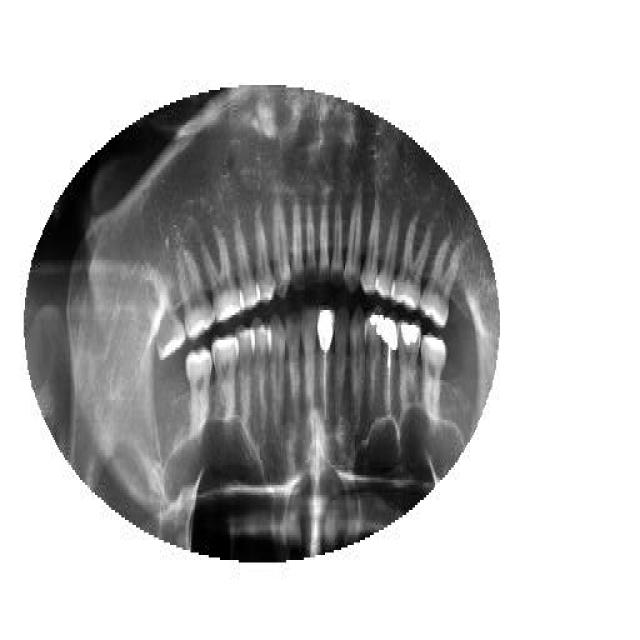Fillings: (396, 320, 422, 412), (364, 302, 385, 412)
Implant: (316, 305, 335, 425), (382, 315, 398, 420)
